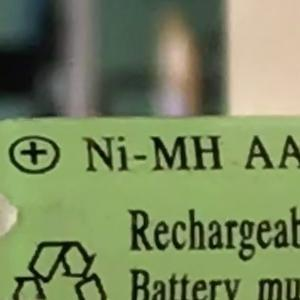keyword: (73, 126, 227, 182)
